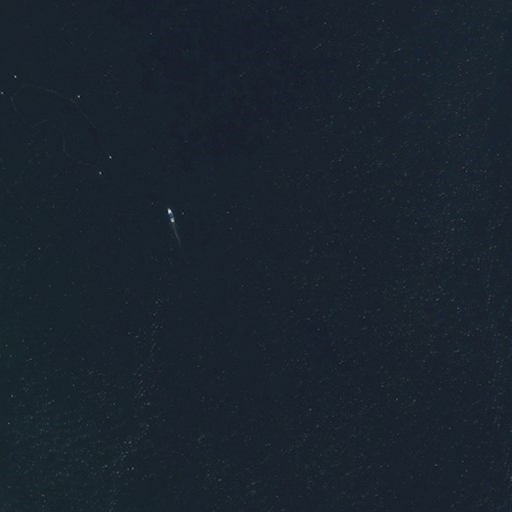ship: (164, 204, 177, 229)
